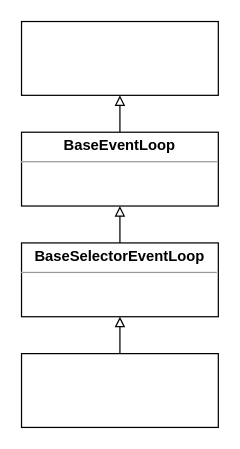
Some shapes in this 240 by 449 pixel diagram are drawn without their labels. The centre of each missing label's shape, as x and y in pixels:
_UnixSelectorEventLoop: pixel 119 389
AbstractEventLoop: pixel 119 57
